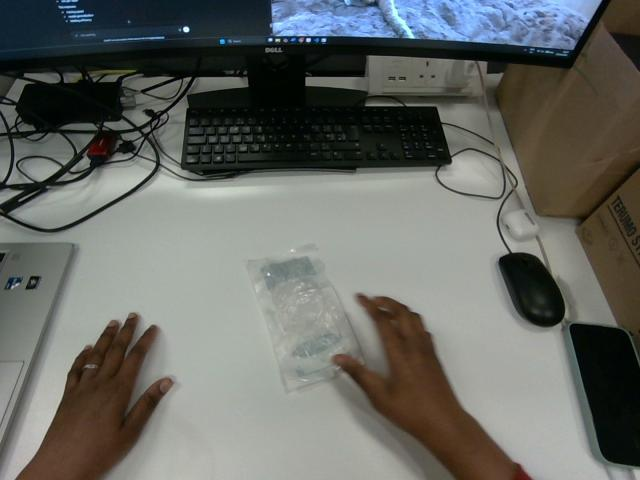gallipot: (247, 246, 360, 391)
